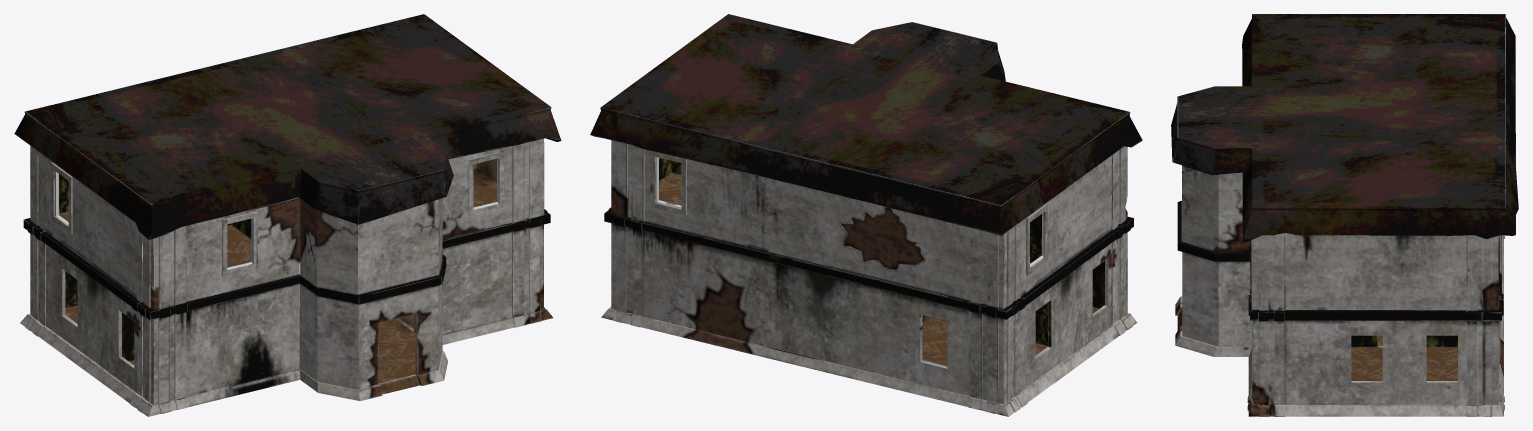
3 renders of one model, left to right at view 1: azimuth 30°, elevation 25°; view 2: azimuth 150°, elevation 25°; view 3: azimuth 270°, elevation 25°, orthographic.
Visible parts, largest first — view 1: Cylinder.016; view 2: Cylinder.016; view 3: Cylinder.016.
Part boxes in pixels (x1,y1,x2,y2): Cylinder.016: (14, 14, 561, 416); Cylinder.016: (590, 14, 1142, 416); Cylinder.016: (1171, 14, 1518, 416).
Bounding box in the file's own units: 432 × 315 × 208.
Materials: 1 (1 with a texture image).
